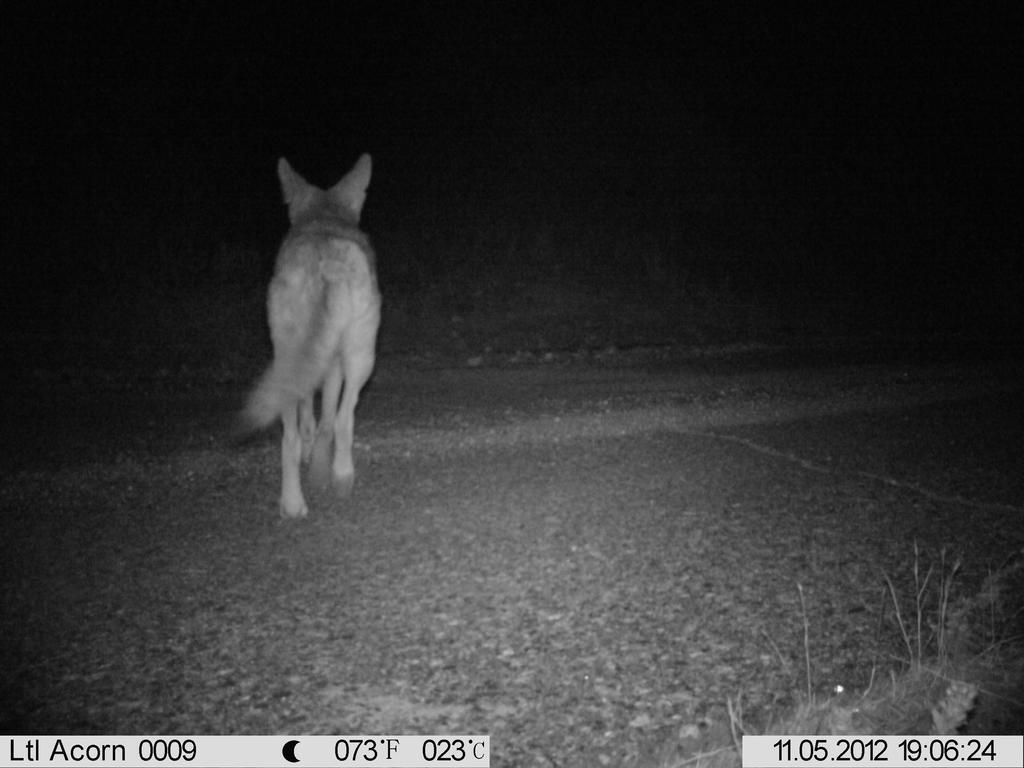coyote: (225, 138, 394, 532)
